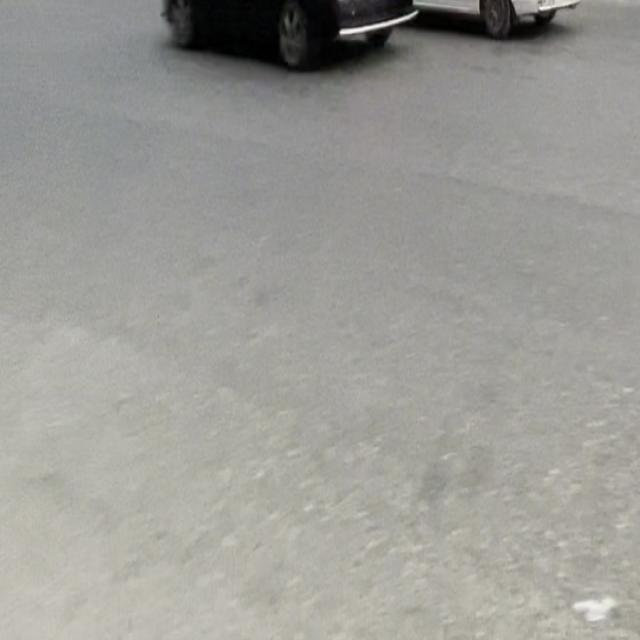car: (156, 0, 412, 62), (357, 0, 596, 61)
